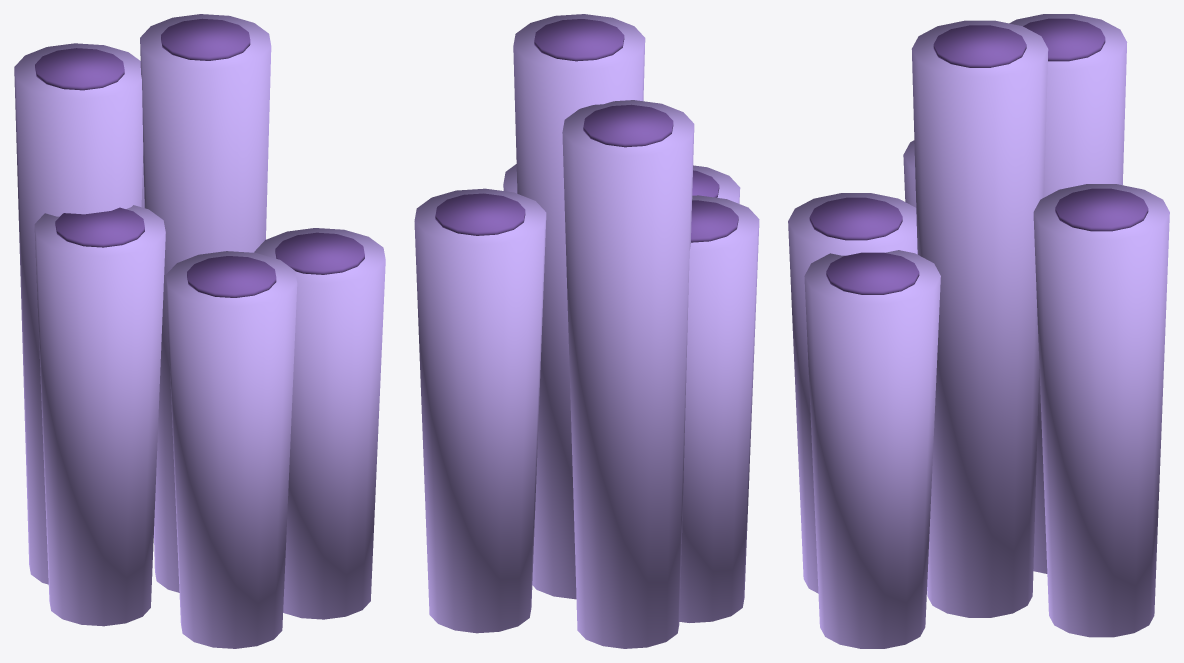
The model's file is coral_tube.glb.
3 views of the same model, side by side, from view 1: azimuth 30°, elevation 25°; view 2: azimuth 150°, elevation 25°; view 3: azimuth 270°, elevation 25° (orthographic). The views are drawn at different scales.
Parts seen in each view (by area): view 1: Tube3, Tube4, Tube5, Tube0, Tube2, Hole2, Hole0, Hole4, Hole5, Hole3; view 2: Tube2, Tube1, Tube3, Tube0, Hole1, Hole2, Hole0, Hole3, Tube4, Hole4; view 3: Tube0, Tube1, Tube5, Tube2, Tube4, Hole4, Hole1, Hole0, Hole5, Hole2, Tube3.
Part boxes in pixels (left/top/right/bottom): Tube3: left=34, top=205, right=165, bottom=626; Tube4: left=166, top=251, right=297, bottom=648; Tube5: left=254, top=228, right=385, bottom=619; Tube0: left=140, top=14, right=271, bottom=592; Tube2: left=14, top=43, right=143, bottom=584; Hole2: left=35, top=48, right=124, bottom=90; Hole0: left=161, top=18, right=250, bottom=60; Hole4: left=187, top=256, right=276, bottom=297; Hole5: left=275, top=232, right=364, bottom=274; Hole3: left=55, top=207, right=144, bottom=247; Tube2: left=562, top=100, right=694, bottom=648; Tube1: left=414, top=188, right=546, bottom=633; Tube3: left=679, top=195, right=759, bottom=622; Tube0: left=513, top=14, right=645, bottom=599; Hole1: left=435, top=193, right=525, bottom=235; Hole2: left=583, top=104, right=673, bottom=147; Hole0: left=534, top=19, right=624, bottom=61; Hole3: left=691, top=200, right=738, bottom=242; Tube4: left=693, top=165, right=740, bottom=203; Hole4: left=692, top=170, right=719, bottom=197; Tube0: left=911, top=20, right=1048, bottom=617; Tube1: left=1033, top=184, right=1169, bottom=637; Tube5: left=804, top=250, right=940, bottom=648; Tube2: left=1009, top=14, right=1127, bottom=573; Tube4: left=788, top=193, right=917, bottom=593; Hole4: left=809, top=197, right=902, bottom=240; Hole1: left=1055, top=188, right=1148, bottom=231; Hole0: left=933, top=25, right=1026, bottom=67; Hole5: left=826, top=252, right=919, bottom=294; Hole2: left=1023, top=18, right=1105, bottom=61; Tube3: left=903, top=140, right=916, bottom=207.
Bounding box in the file's own units: 1.09 × 1.96 × 1.23.
